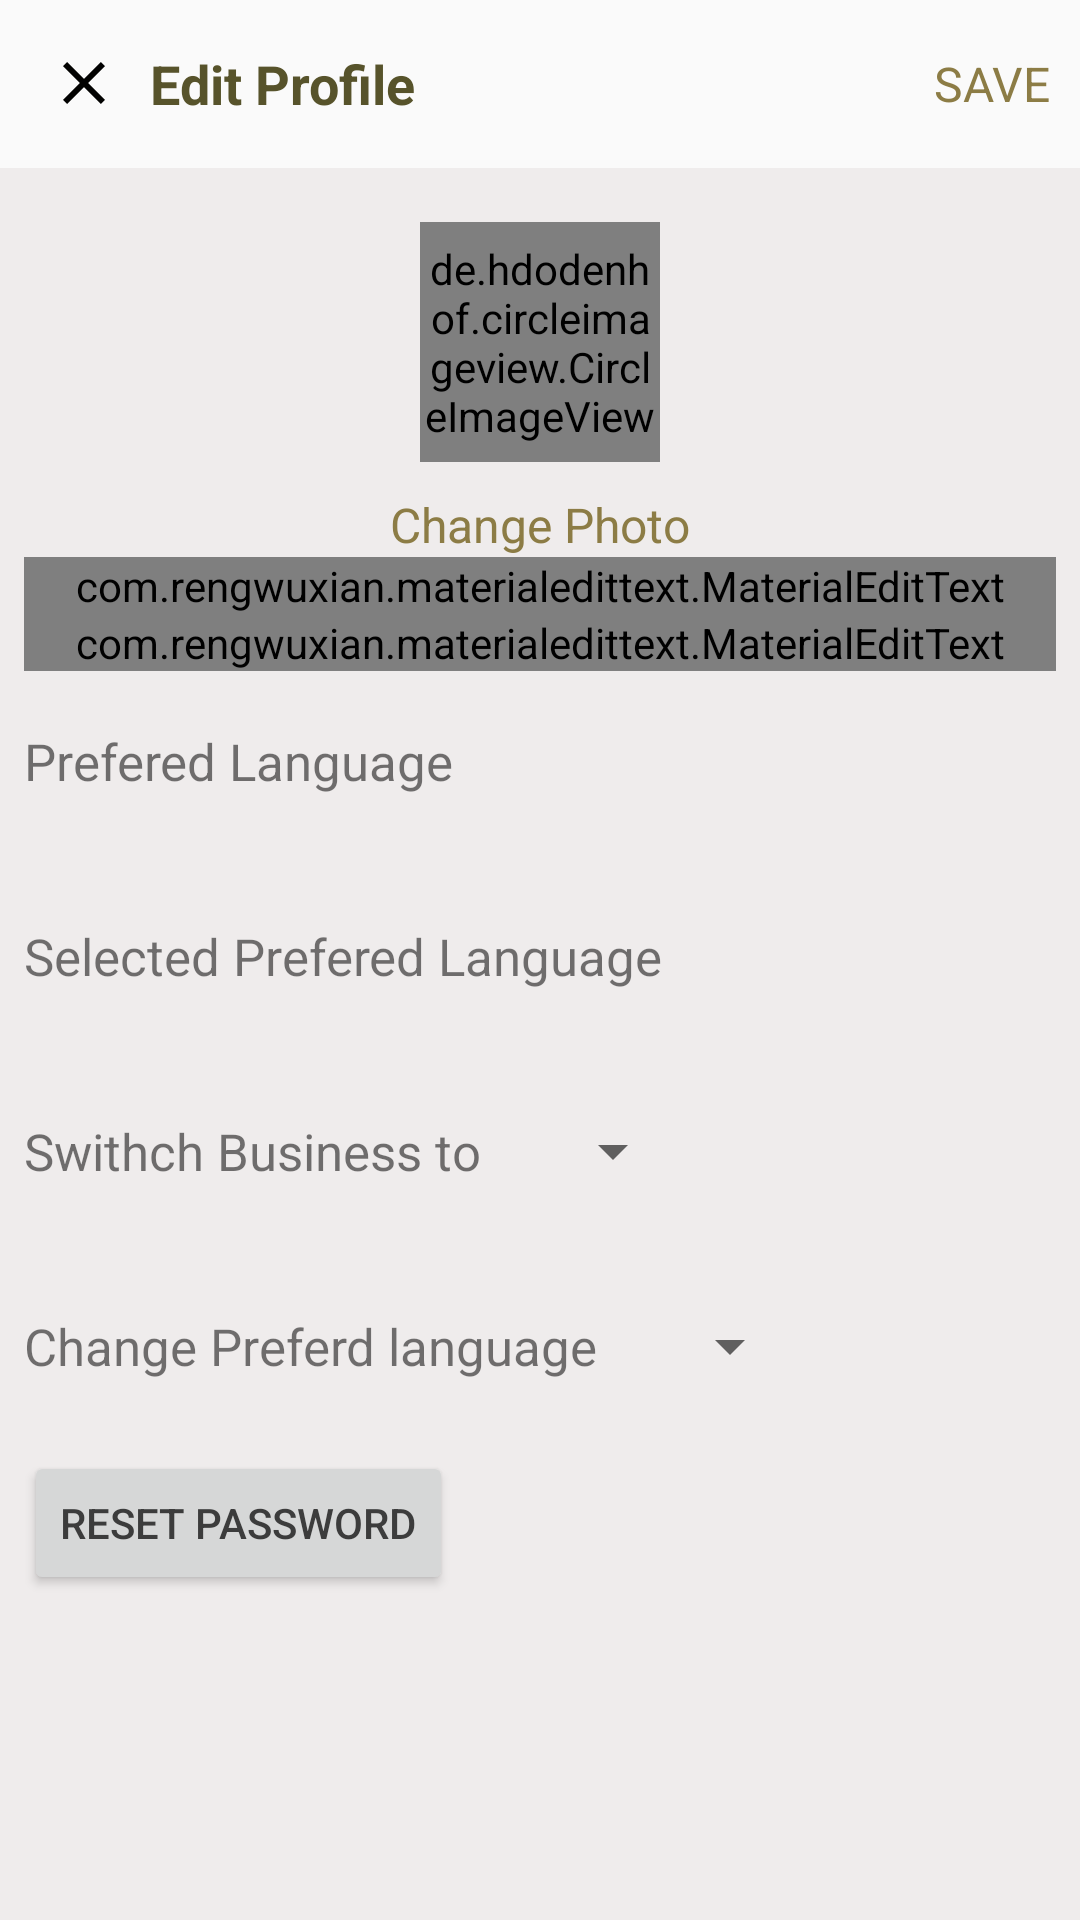

Where to tap for icons on this 1080 x 1920 app screen, as point (x, y):
close: point (84, 83)
